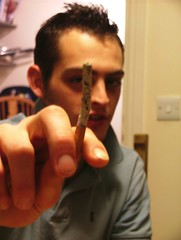cigarette: (73, 61, 93, 166)
